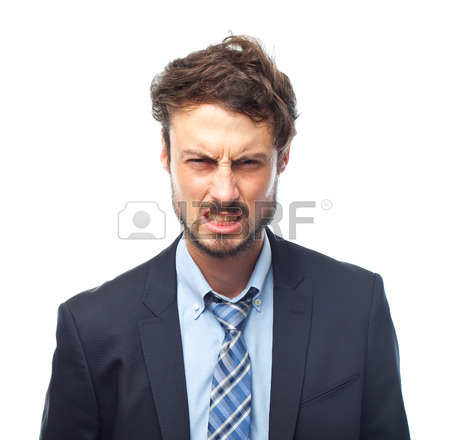angry: (158, 125, 281, 258)
